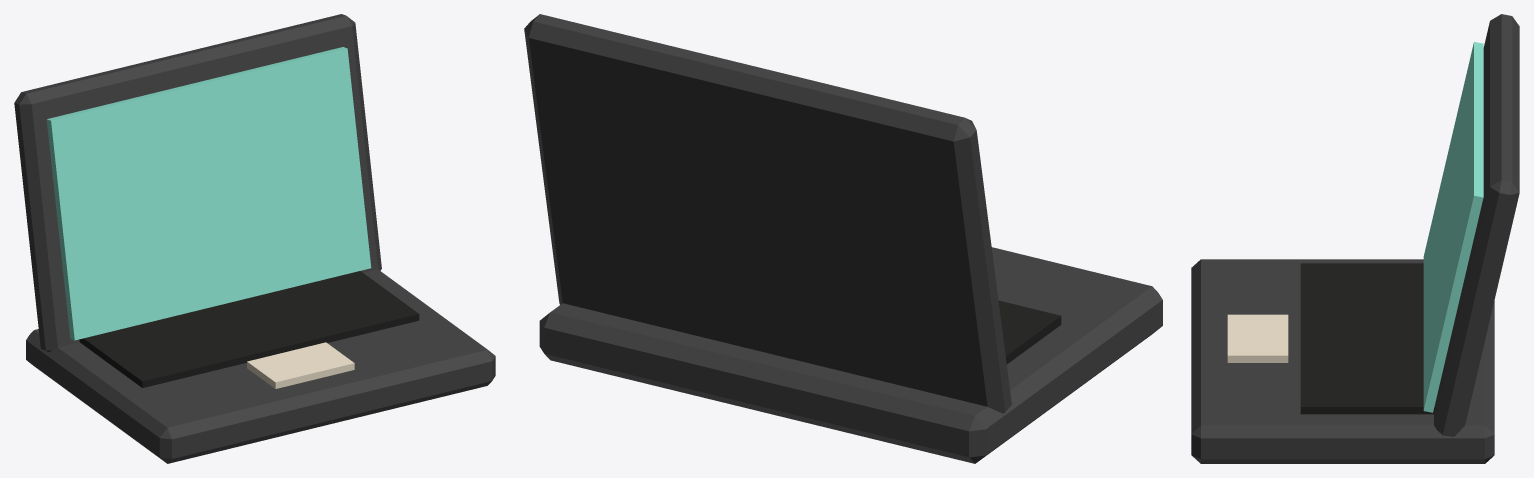
3 views of the same model, side by side, from view 1: azimuth 30°, elevation 25°; view 2: azimuth 150°, elevation 25°; view 3: azimuth 270°, elevation 25° (orthographic). The views are drawn at different scales.
Visible parts, largest first — view 1: Display face, Keyboard base, Hinged display, Key field, Touch pad; view 2: Hinged display, Keyboard base, Key field; view 3: Keyboard base, Key field, Hinged display, Display face, Touch pad.
Boxes of the visible parts, x1=… form: Display face: x1=46, y1=47, x2=371, y2=340; Keyboard base: x1=26, y1=269, x2=495, y2=463; Hinged display: x1=14, y1=14, x2=381, y2=352; Key field: x1=79, y1=271, x2=419, y2=387; Touch pad: x1=247, y1=342, x2=354, y2=388; Hinged display: x1=524, y1=14, x2=1011, y2=413; Keyboard base: x1=539, y1=247, x2=1162, y2=463; Key field: x1=998, y1=300, x2=1061, y2=364; Keyboard base: x1=1191, y1=259, x2=1494, y2=463; Key field: x1=1300, y1=263, x2=1435, y2=414; Hinged display: x1=1434, y1=14, x2=1519, y2=436; Display face: x1=1423, y1=42, x2=1483, y2=412; Touch pad: x1=1227, y1=314, x2=1288, y2=362.
Bounding box in the file's own units: 27.2 × 20.63 × 21.64.
